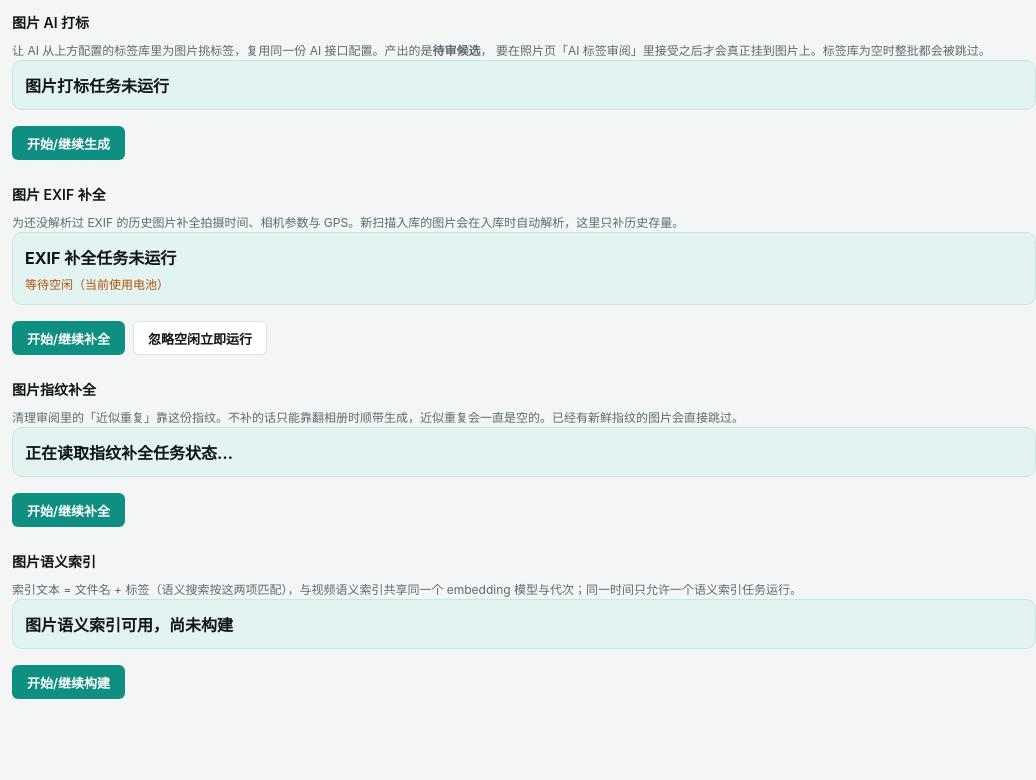
it: 图片任务面板的空闲门提示 › 立即运行失败时把原因写进对应任务的错误位，不静默
Click the button with test id "image-exif-backfill-run-now".
click(200, 338)  # box [133,321,267,355]
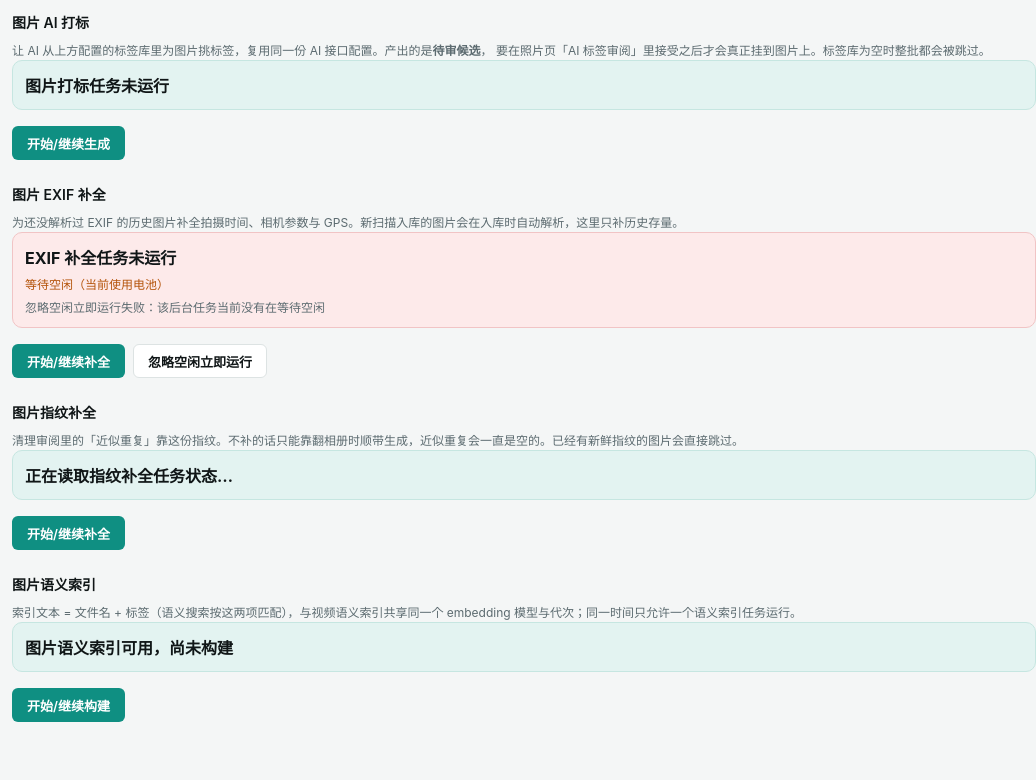
Check: the text with test id "image-exif-backfill-error" shows "忽略空闲立即运行失败", box [25,300,325,315]
